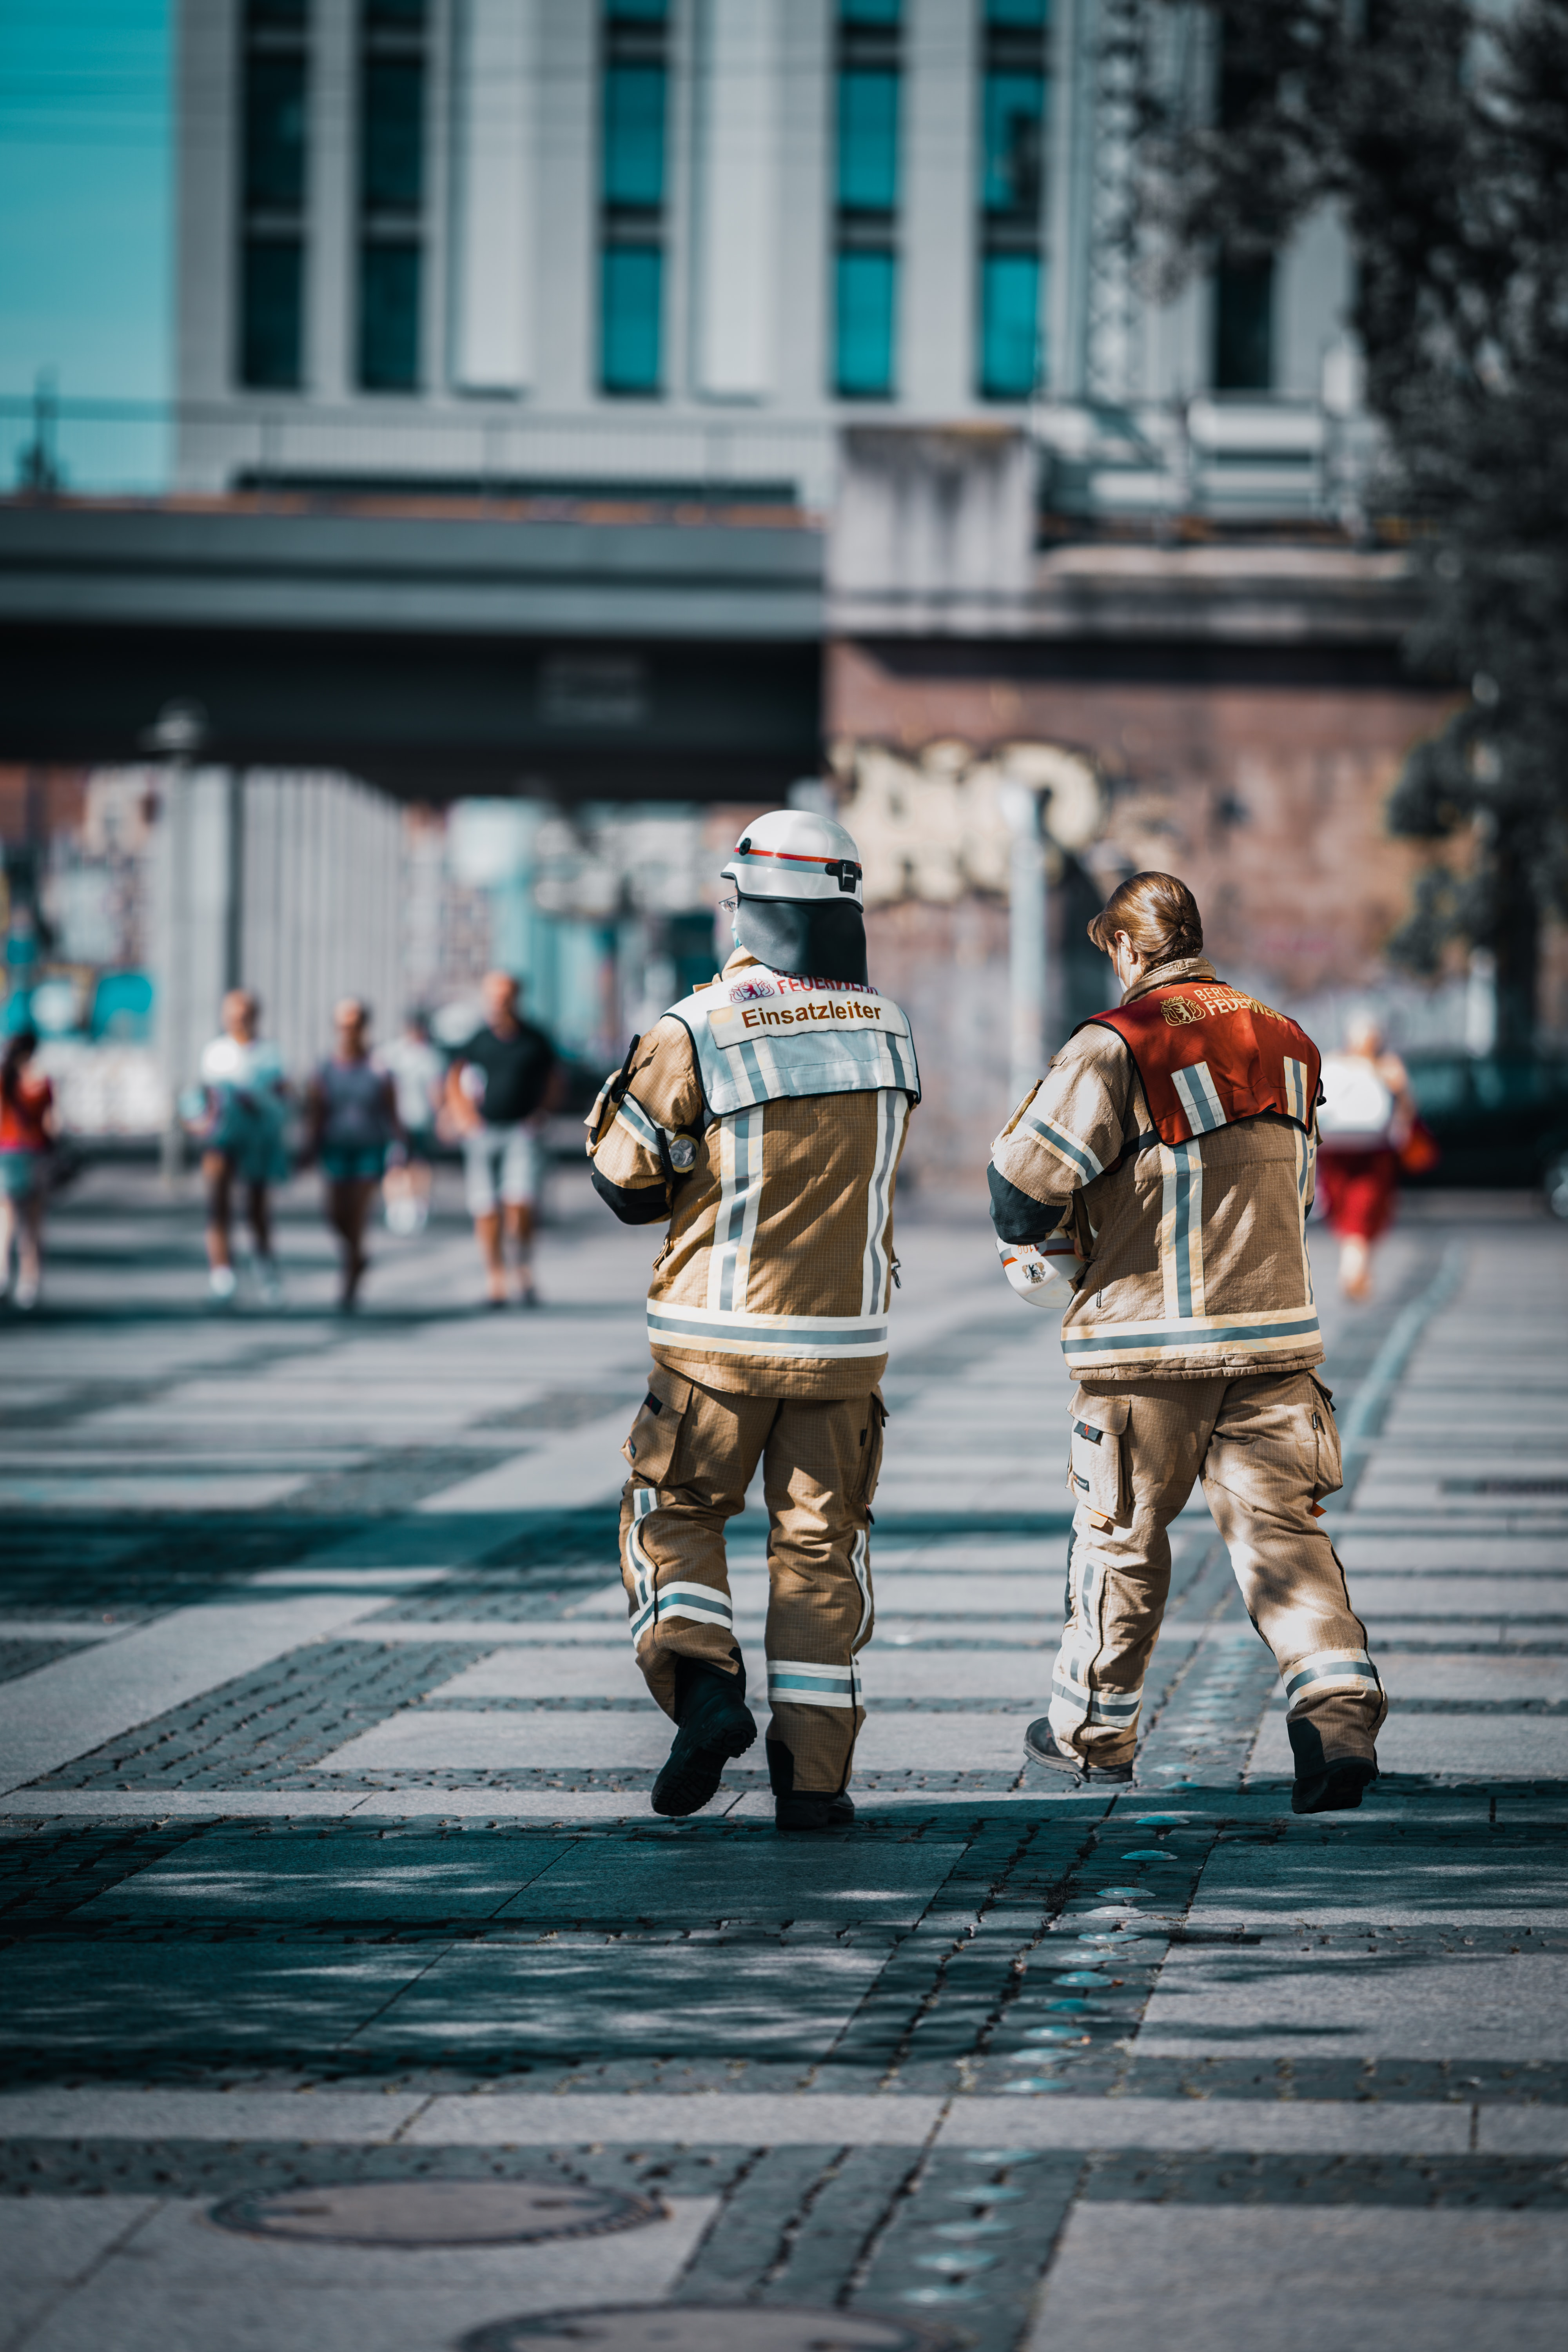emergent: (1001, 868, 1405, 1820), (549, 803, 919, 1820)
